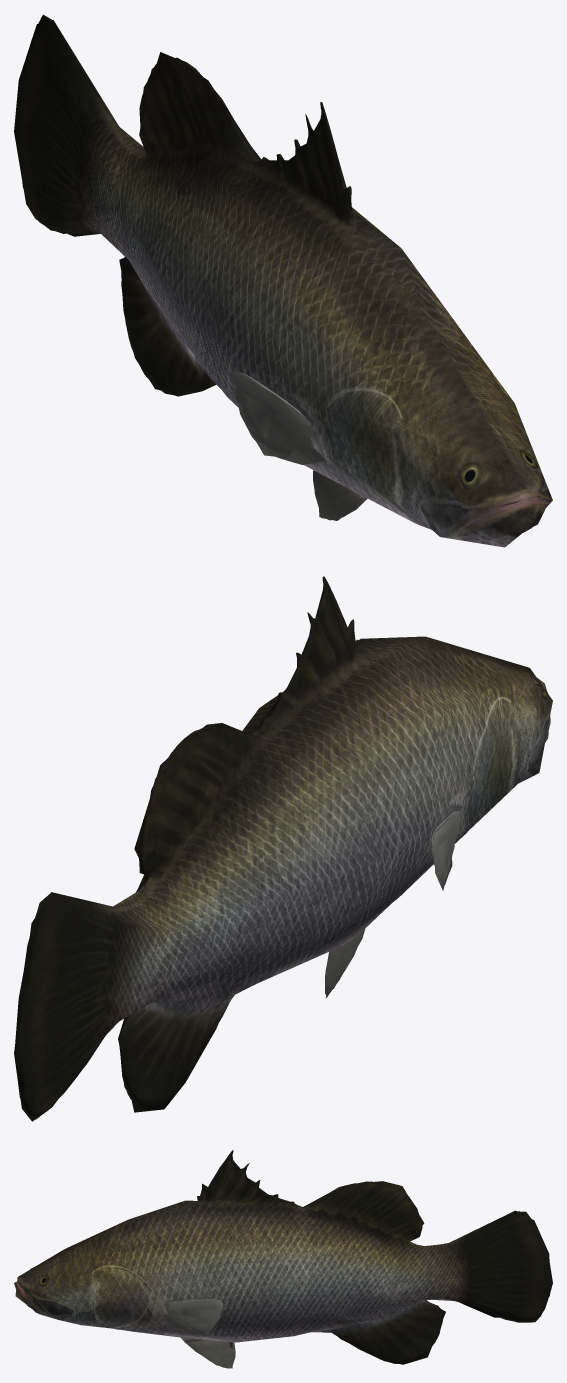
File: BarramundiFish.gltf
3 renders of one model, top to bottom at view 1: azimuth 30°, elevation 25°; view 2: azimuth 150°, elevation 25°; view 3: azimuth 270°, elevation 25°, orthographic. The views are drawn at different scales.
Parts seen in each view (by area): view 1: meshId3_name, meshId2_name, meshId1_name, meshId0_name; view 2: meshId3_name, meshId2_name, meshId1_name, meshId0_name; view 3: meshId3_name, meshId2_name, meshId1_name, meshId0_name.
Part boxes in pixels (x1,y1,x2,y2): meshId3_name: (14, 20, 552, 547); meshId2_name: (16, 15, 545, 539); meshId1_name: (22, 17, 542, 541); meshId0_name: (33, 14, 542, 531); meshId3_name: (14, 577, 552, 1121); meshId2_name: (14, 582, 549, 1121); meshId1_name: (18, 576, 550, 1119); meshId0_name: (15, 576, 550, 1103); meshId3_name: (15, 1157, 550, 1368); meshId2_name: (14, 1153, 552, 1368); meshId1_name: (15, 1156, 548, 1365); meshId0_name: (15, 1150, 552, 1368).
Bounding box in the file's own units: 14.34 × 28.83 × 64.37.
Materials: 4 (4 with a texture image).
